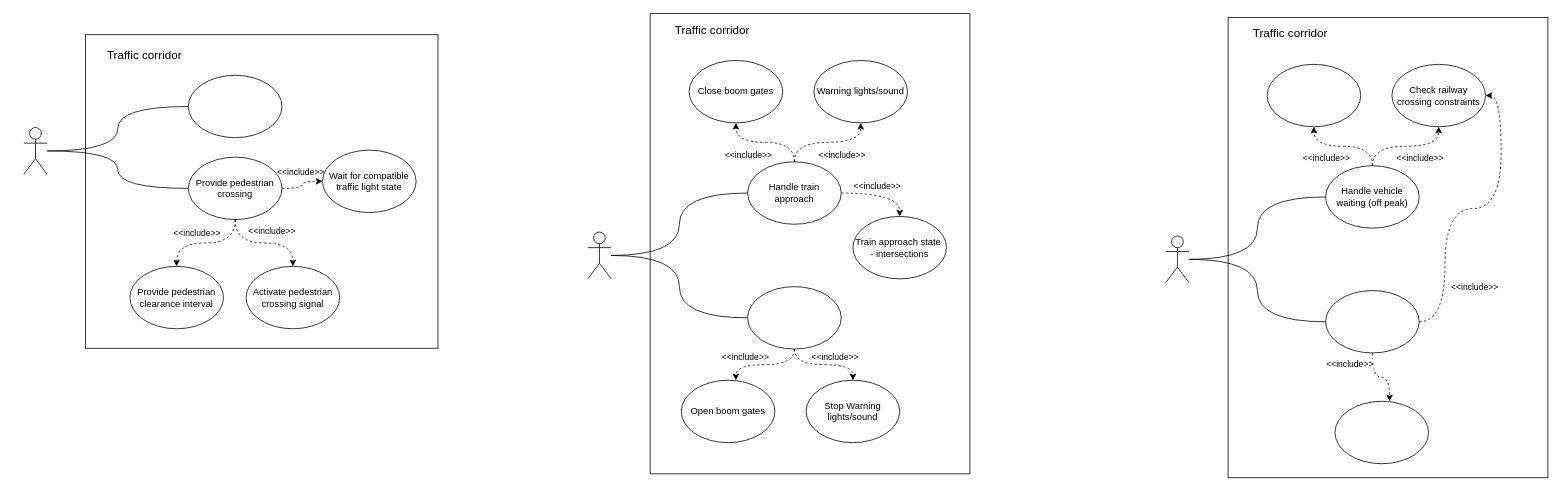
Some shapes in this 1562 by 491 pixel diagram are drawn without their labels. Here are the shapes that lost their labels. From the top down, the centre of each, then its label:
[235,106]: Request pedestrian crossing
[1313,95]: Service vehicle request
[35,150]: Pedestrian
[599,255]: Train
[1177,259]: Vehicle
[794,317]: Handle train depature
[1372,321]: Handle vehicle waiting (peak hours)
[1381,432]: Follow fixed time traffic light cycle
